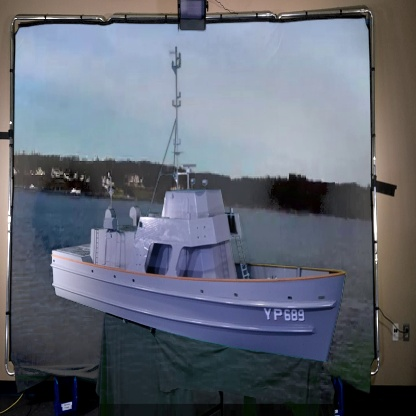YP689: (52, 42, 346, 363)
